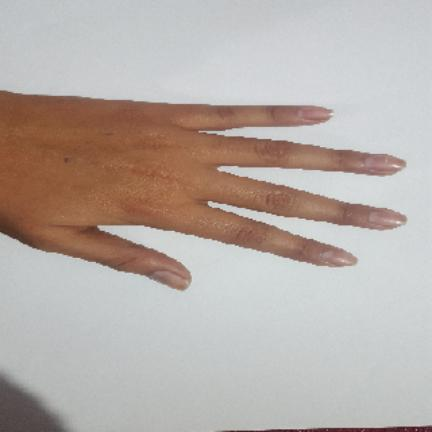Nail: (149, 271, 191, 290), (364, 154, 406, 173), (370, 208, 406, 228), (325, 248, 359, 266), (298, 106, 332, 122)
